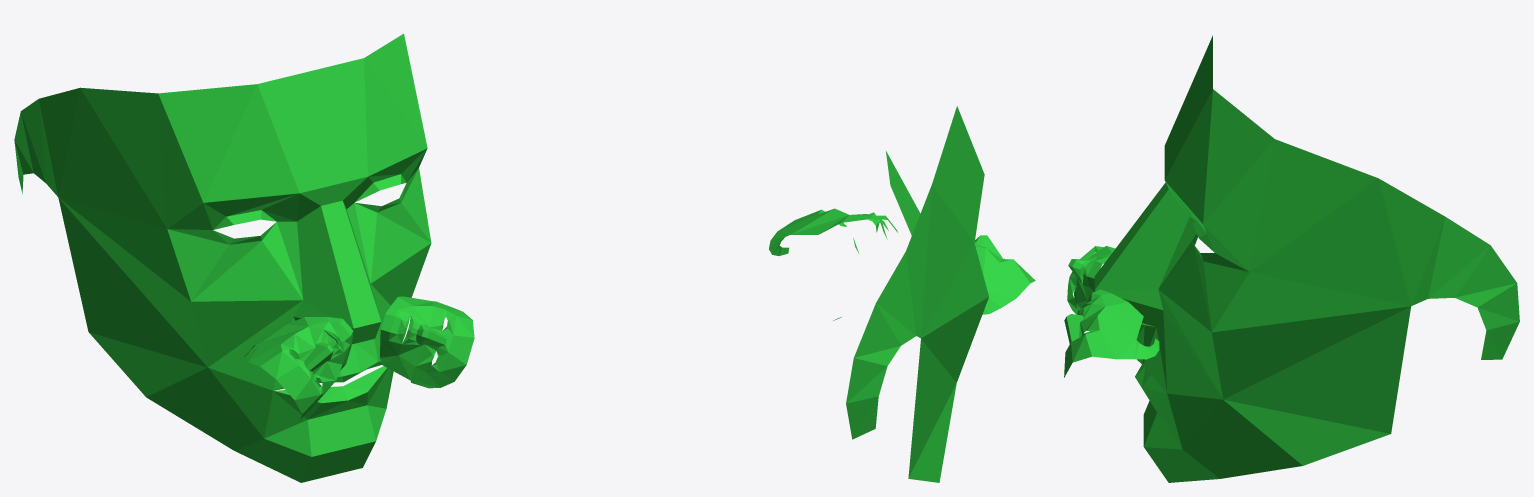
The model's file is mask.gltf.
The picture shows the model from 3 angles, left to right: view 1: azimuth 30°, elevation 25°; view 2: azimuth 150°, elevation 25°; view 3: azimuth 270°, elevation 25°; orthographic projection. The views are drawn at different scales.
Visible parts, largest first — view 1: LowPolyMask by Kongorilla3; view 2: LowPolyMask by Kongorilla3; view 3: LowPolyMask by Kongorilla3.
Part boxes in pixels (x1,y1,x2,y2): LowPolyMask by Kongorilla3: (14,33,474,482); LowPolyMask by Kongorilla3: (769,106,1035,482); LowPolyMask by Kongorilla3: (1064,35,1519,482).
Bounding box in the file's own units: 1.5 × 1.72 × 1.76.
